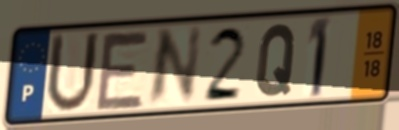1: (307, 14, 334, 100)
2: (199, 24, 250, 102)
E: (93, 29, 152, 113)
N: (144, 22, 205, 110)
Q: (253, 21, 299, 99)
U: (42, 30, 102, 117)
